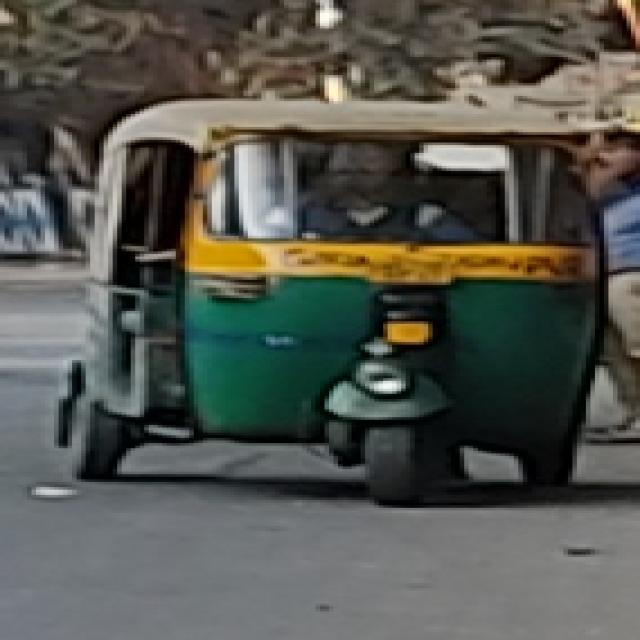autorickshaw: (58, 88, 618, 521)
